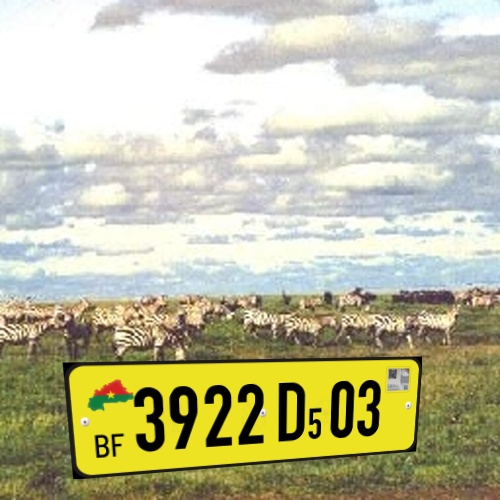plate: (47, 344, 441, 488)
